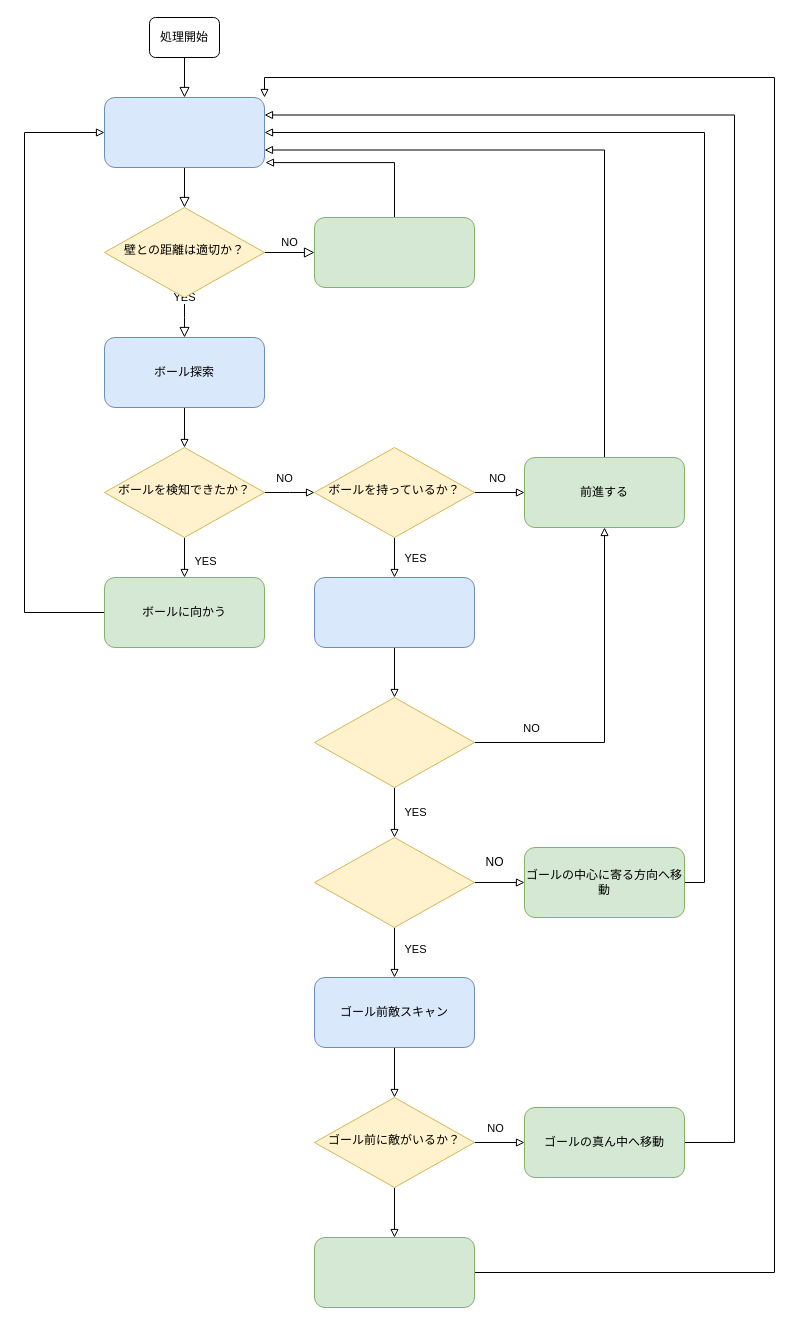
Some shapes in this 800 by 1325 pixel diagram are drawn without their labels. Here are the shapes that lost their labels. From the top down, the box of each, then its label:
(104, 96, 264, 168): 壁検知
(314, 216, 474, 288): 壁から離れる
(314, 576, 474, 648): ゴール探索
(314, 696, 474, 788): ゴールが見えたか？
(314, 836, 474, 928): ゴールは適切な位置に見えるか?
(314, 1236, 474, 1308): 敵を避ける方向へ移動
